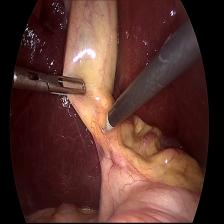Grasper: (18, 59, 87, 97)
Hook: (99, 105, 113, 142)
